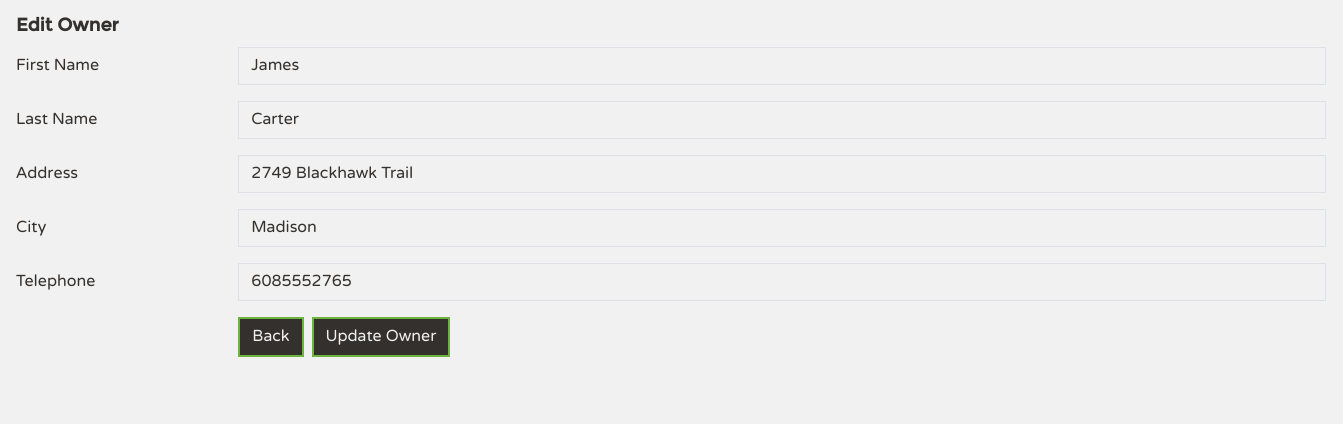
Test: OwnerEditComponent › should disable the submit button when the form is invalid
Replace the text in the field with id "telephone" with "abc" at (782, 282), box [238,263,1326,301]
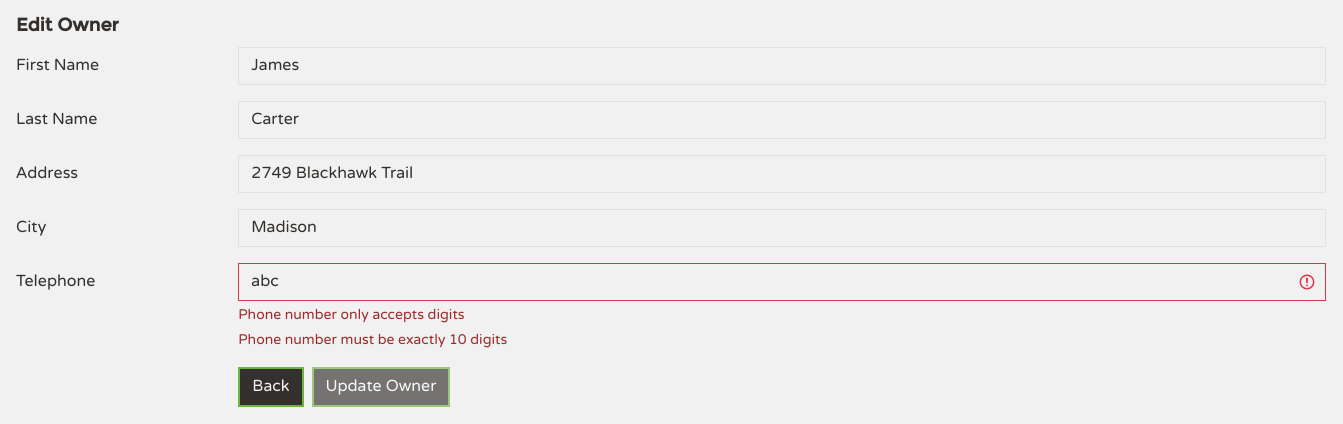
Now the text "Phone number only accepts digits" is shown, box [238,307,464,323]
Now the submit button is disabled, box [312,367,450,407]
